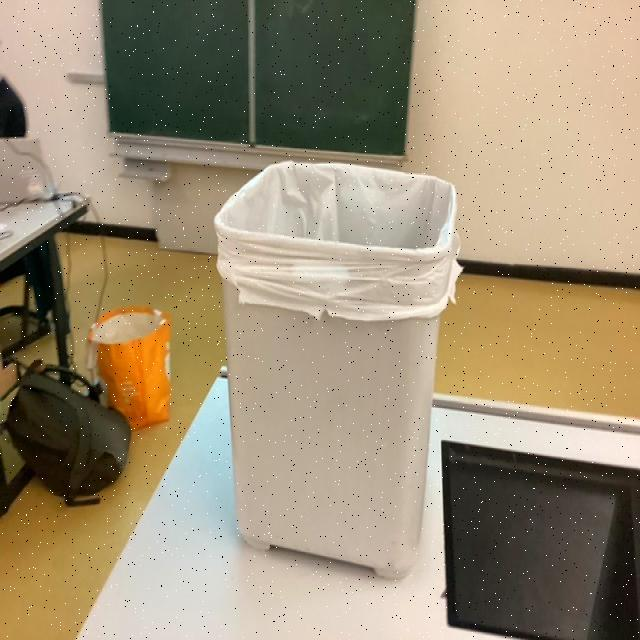garbage container: (184, 90, 497, 589)
